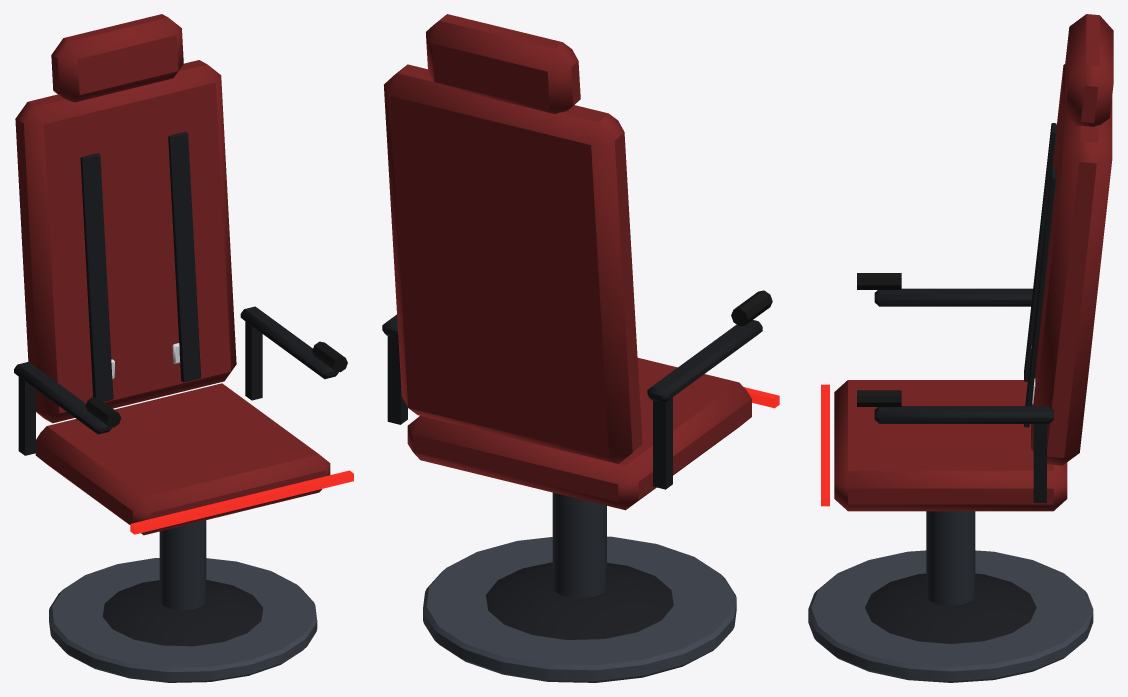
The model's file is seat_tactical_chair.glb.
3 renders of one model, left to right at view 1: azimuth 30°, elevation 25°; view 2: azimuth 150°, elevation 25°; view 3: azimuth 270°, elevation 25°, orthographic. The views are drawn at different scales.
Visible parts, largest first — view 1: seat_tactical_chair; view 2: seat_tactical_chair; view 3: seat_tactical_chair.
Part boxes in pixels (<box>): seat_tactical_chair: <box>14,14,353,682</box>; seat_tactical_chair: <box>382,14,779,682</box>; seat_tactical_chair: <box>808,14,1113,682</box>.
Size of the model in its own units: 0.67 by 1.44 by 0.683.
